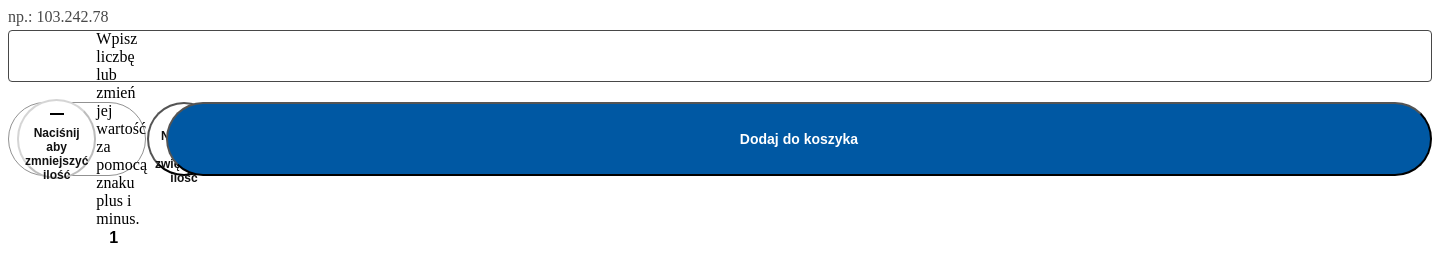
Modal AdditionalInformations variant › should type incorrect product number into textbox
# type the input
Step 1. Type "ag1gas222" into the field labelled "np.: 103.242.78" → (720, 56), box [8, 30, 1432, 82]
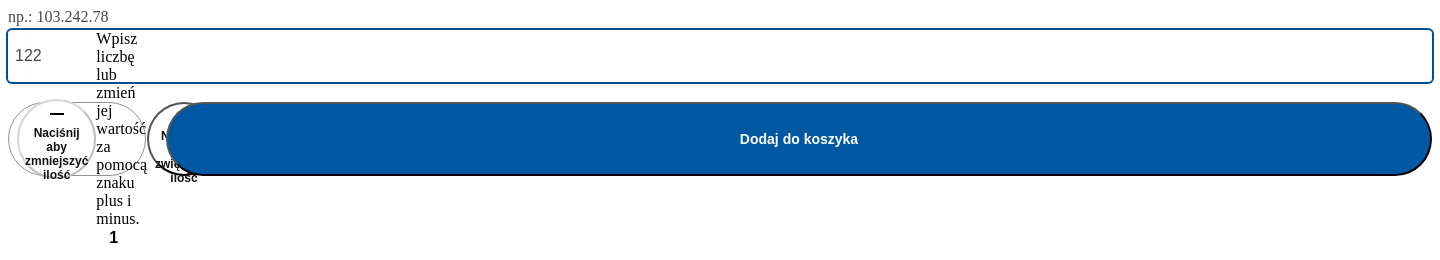
Now the field labelled "np.: 103.242.78" does not hold "ag1gas222", box [8, 30, 1432, 82]
Now the field labelled "np.: 103.242.78" holds "122", box [8, 30, 1432, 82]
